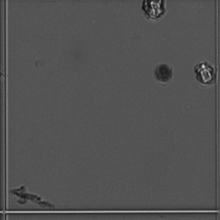Dead Cell: (150, 59, 180, 89)
Living Cell: (138, 1, 169, 31), (192, 59, 220, 87)
